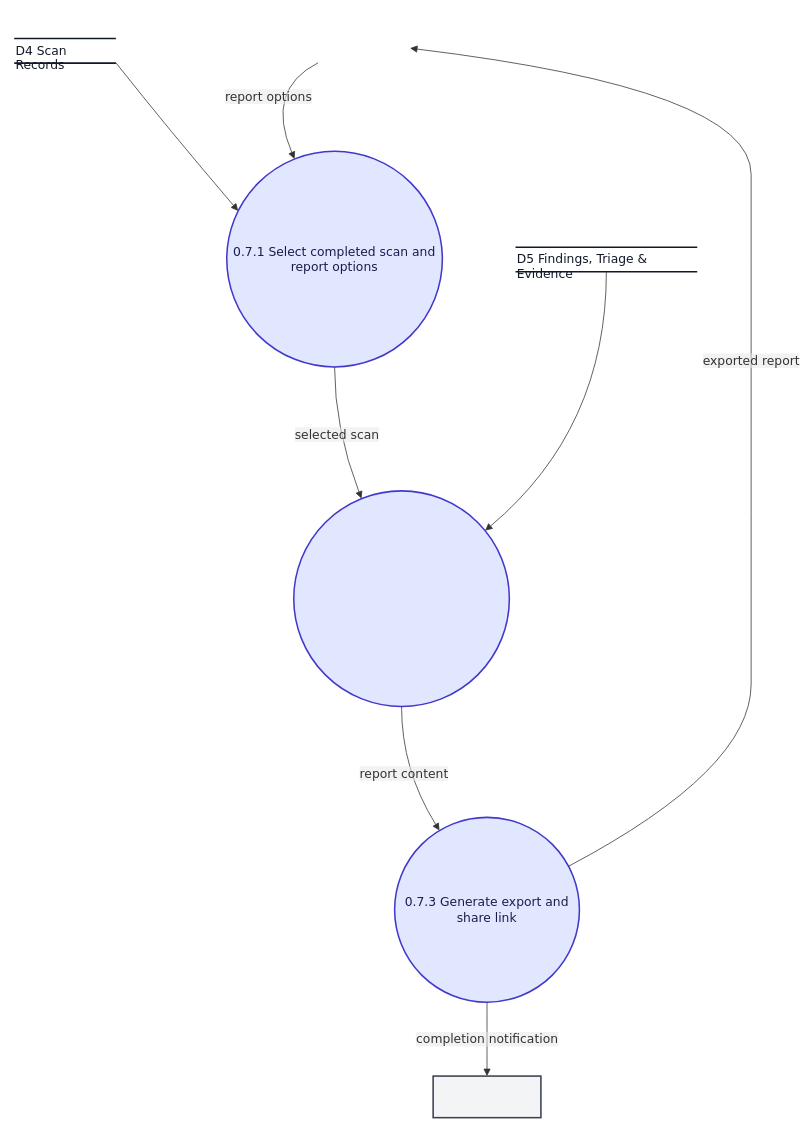
Image size: 812x1131. Some labels were removed from this diagram. Here are the shapes that lost their labels. From the top down, the centre of each, then its label:
At point (401, 598): "0.7.2 Assemble template, filters and limitations".
At point (486, 1096): "SMTP Relay".
